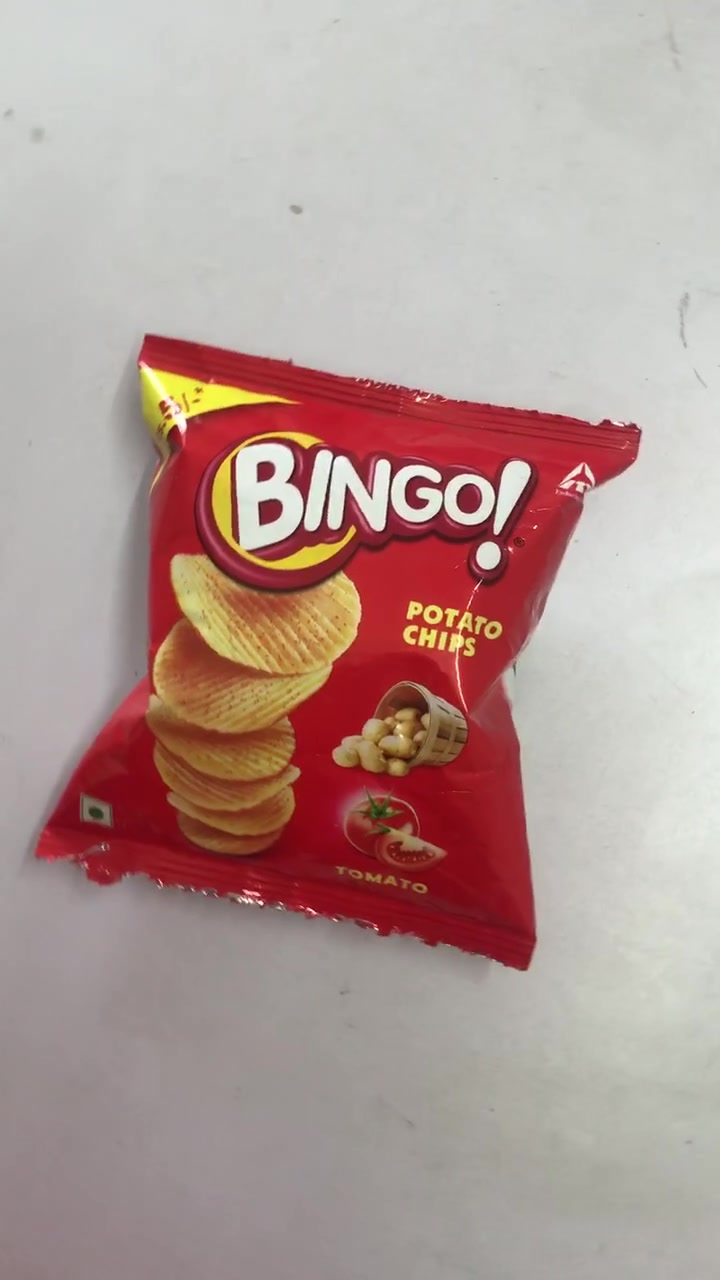Bingo: (34, 334, 642, 970)
